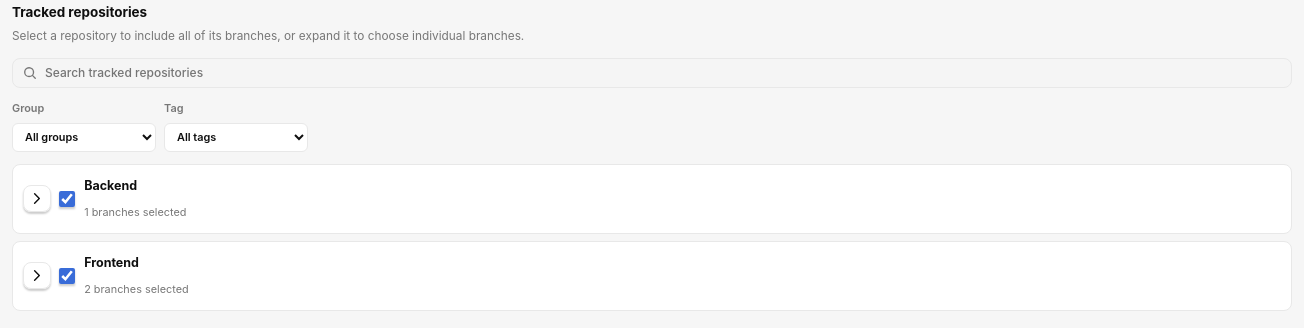
Test case: RepositoryScopeSelector › filters by group and tag without changing selection callbacks
Select "Work" in the dropdown named "Filter repositories by group" at (84, 137), box [12,123,156,152]
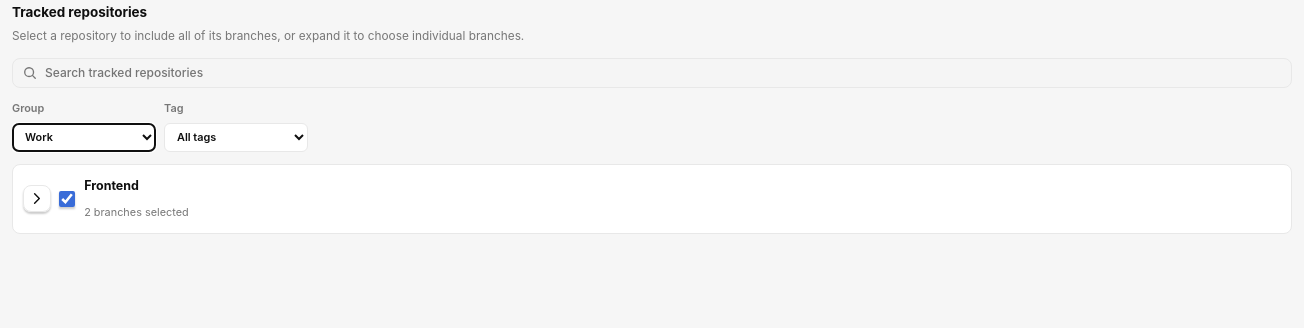
Expected: the text "Frontend" is shown, [84,178,139,193]
Expected: the text "Backend" is gone
Select "Active" in the dropdown named "Filter repositories by tag" at (236, 137), box [164,123,308,152]
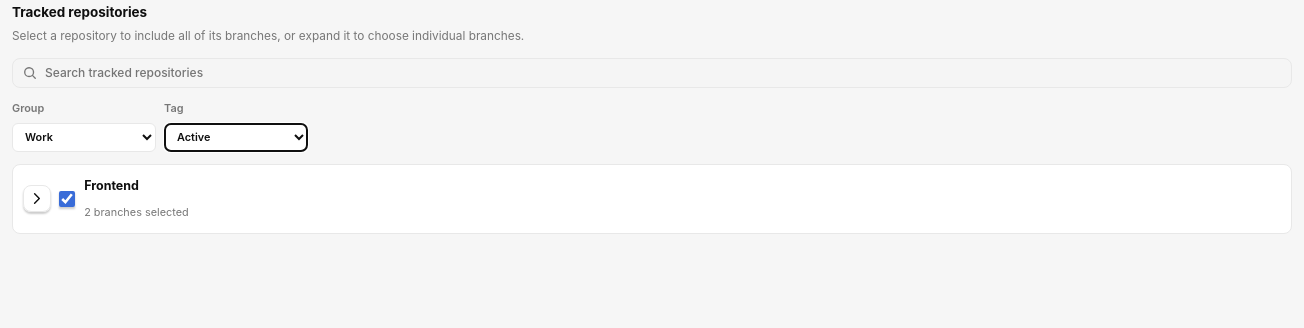
Expected: the text "Frontend" is shown, [84,178,139,193]
Select "All groups" in the dropdown named "Filter repositories by group" at (84, 137), box [12,123,156,152]
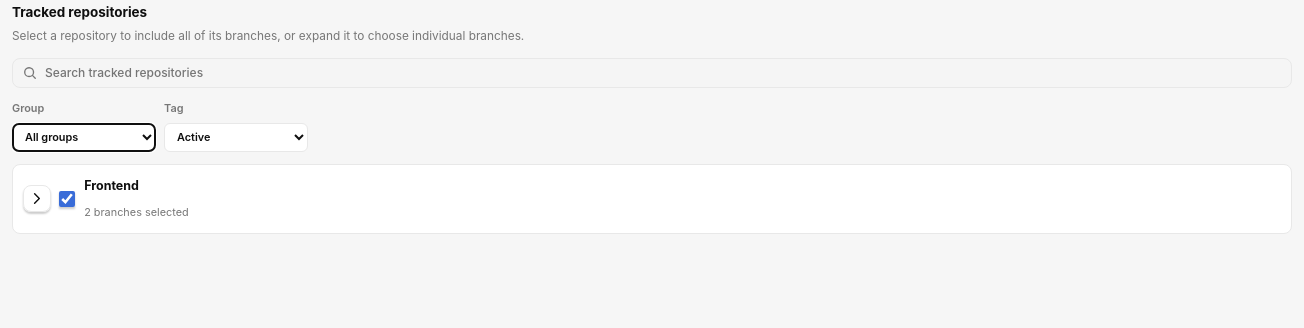
Select "All tags" in the dropdown named "Filter repositories by tag" at (236, 137), box [164,123,308,152]
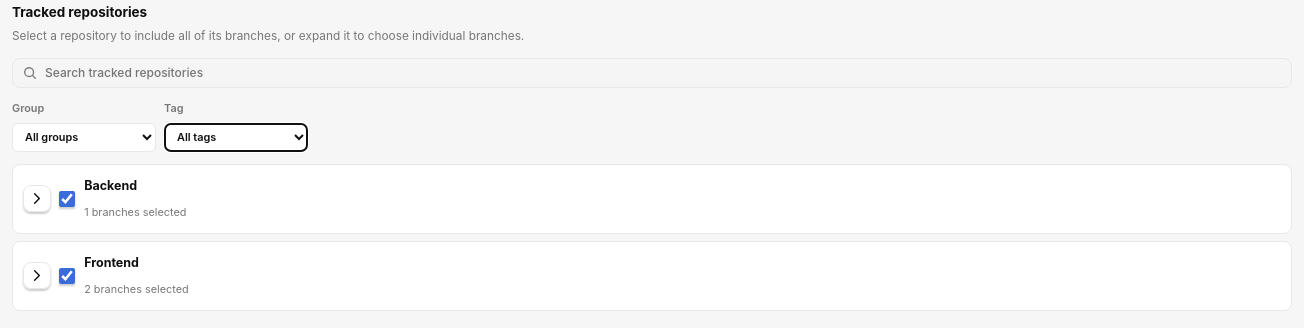
Expected: the text "Backend" is shown, [84,178,137,193]
